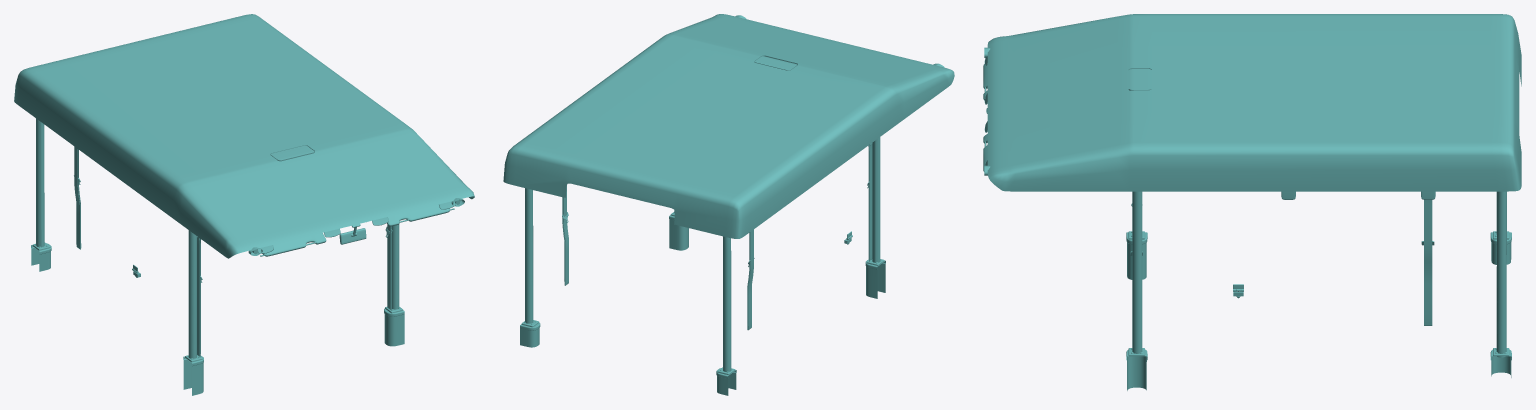
Rendered from FHXY_02BX_A10_NeiDing_MD_exp.fbx.
The picture shows the model from 3 angles, left to right: view 1: azimuth 30°, elevation 25°; view 2: azimuth 150°, elevation 25°; view 3: azimuth 270°, elevation 25°; orthographic projection. The views are drawn at different scales.
Parts seen in each view (by area): view 1: FHXY_02BX_A10_NeiDing_MD_L_4, mirrored_x_3, FHXY_02BX_A10_NeiDing_MD_L_12, mirrored_x_5, FHXY_02BX_A10_NeiDing_MD_L_9, FHXY_02BX_A10_NeiDing_MD_L_8, mirrored_x_1, mirrored_x_10, mirrored_x_9, mirrored_x_13, FHXY_02BX_A10_NeiDing_MD_L_17; view 2: FHXY_02BX_A10_NeiDing_MD_L_4, mirrored_x_3, FHXY_02BX_A10_NeiDing_MD_L_9, mirrored_x_5, mirrored_x_9, FHXY_02BX_A10_NeiDing_MD_L_12, FHXY_02BX_A10_NeiDing_MD_L_13, mirrored_x_10, FHXY_02BX_A10_NeiDing_MD_L_18, mirrored_x_13; view 3: FHXY_02BX_A10_NeiDing_MD_L_4, FHXY_02BX_A10_NeiDing_MD_L_9, FHXY_02BX_A10_NeiDing_MD_L_18, FHXY_02BX_A10_NeiDing_MD_L_12, mirrored_x_5, FHXY_02BX_A10_NeiDing_MD_L_13.
Part boxes in pixels (x1,y1,x2,y2): FHXY_02BX_A10_NeiDing_MD_L_4: [14, 14, 474, 258]; mirrored_x_3: [36, 118, 257, 358]; FHXY_02BX_A10_NeiDing_MD_L_12: [384, 307, 404, 346]; mirrored_x_5: [183, 355, 203, 395]; FHXY_02BX_A10_NeiDing_MD_L_9: [392, 200, 460, 309]; FHXY_02BX_A10_NeiDing_MD_L_8: [387, 204, 454, 226]; mirrored_x_1: [260, 233, 326, 256]; mirrored_x_10: [74, 146, 81, 249]; mirrored_x_9: [197, 236, 202, 356]; mirrored_x_13: [31, 242, 51, 271]; FHXY_02BX_A10_NeiDing_MD_L_17: [385, 225, 392, 309]; FHXY_02BX_A10_NeiDing_MD_L_4: [503, 14, 954, 238]; mirrored_x_3: [723, 137, 880, 371]; FHXY_02BX_A10_NeiDing_MD_L_9: [525, 188, 674, 323]; mirrored_x_5: [865, 259, 885, 298]; mirrored_x_9: [867, 143, 872, 260]; FHXY_02BX_A10_NeiDing_MD_L_12: [669, 212, 688, 250]; FHXY_02BX_A10_NeiDing_MD_L_13: [520, 320, 540, 347]; mirrored_x_10: [747, 229, 754, 330]; FHXY_02BX_A10_NeiDing_MD_L_18: [562, 185, 568, 285]; mirrored_x_13: [716, 367, 736, 395]; FHXY_02BX_A10_NeiDing_MD_L_4: [987, 14, 1521, 191]; FHXY_02BX_A10_NeiDing_MD_L_9: [1132, 191, 1506, 357]; FHXY_02BX_A10_NeiDing_MD_L_18: [1421, 200, 1434, 325]; FHXY_02BX_A10_NeiDing_MD_L_12: [1126, 348, 1147, 390]; mirrored_x_5: [1126, 231, 1147, 279]; FHXY_02BX_A10_NeiDing_MD_L_13: [1490, 348, 1511, 377].
Size of the model in its own units: 176 by 148 by 283.
